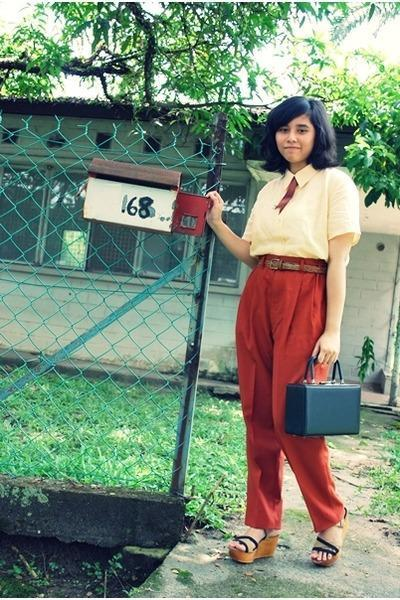bag: (285, 348, 374, 437)
shirt: (242, 165, 360, 258)
shoe: (235, 254, 342, 568)
